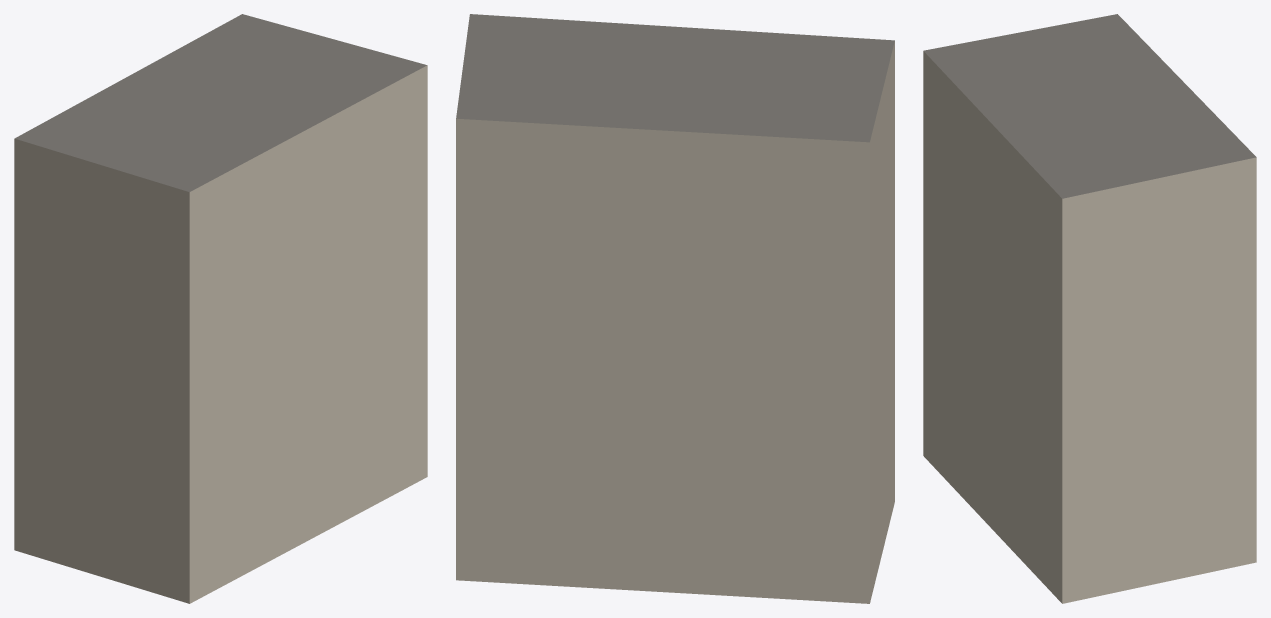
3 renders of one model, left to right at view 1: azimuth 30°, elevation 25°; view 2: azimuth 150°, elevation 25°; view 3: azimuth 270°, elevation 25°, orthographic. The views are drawn at different scales.
Visible parts, largest first — view 1: HP-w505659408; view 2: HP-w505659408; view 3: HP-w505659408.
Part boxes in pixels (left/top/right/bottom): HP-w505659408: left=14, top=14, right=427, bottom=603; HP-w505659408: left=456, top=14, right=894, bottom=603; HP-w505659408: left=923, top=14, right=1256, bottom=603.
Size of the model in its own units: 17.61 by 18 by 13.43.
